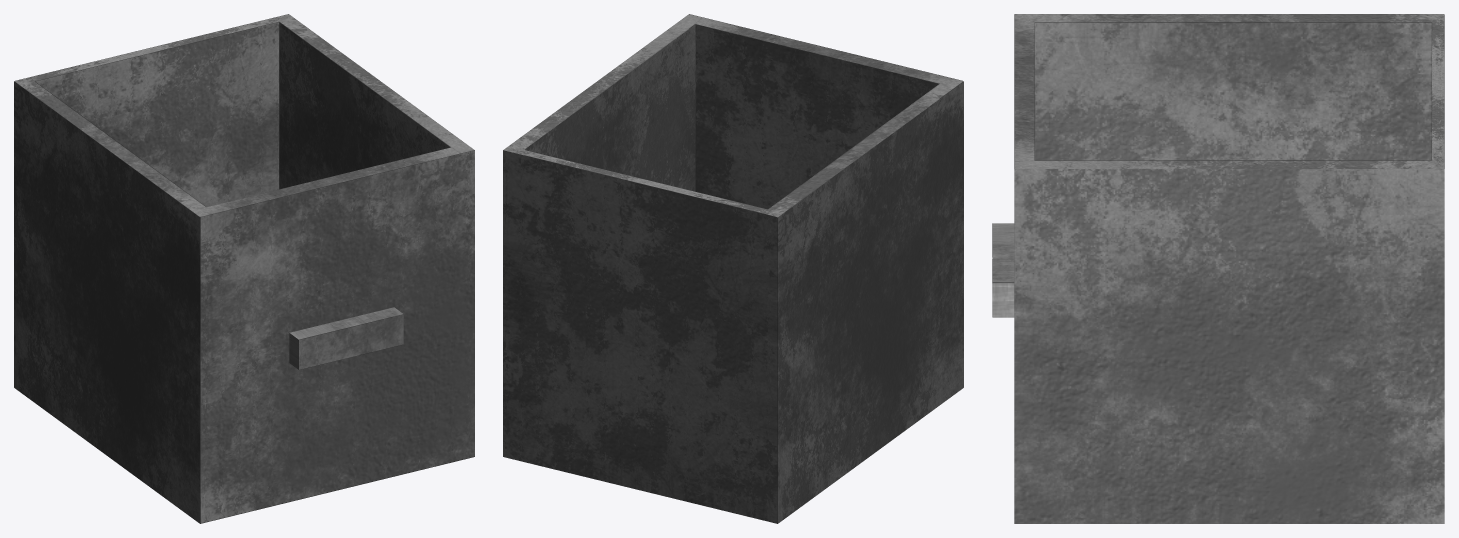
The model's file is Drawer_2.fbx.
3 renders of one model, left to right at view 1: azimuth 30°, elevation 25°; view 2: azimuth 150°, elevation 25°; view 3: azimuth 270°, elevation 25°, orthographic. The views are drawn at different scales.
Visible parts, largest first — view 1: Small_Drawer_2; view 2: Small_Drawer_2; view 3: Small_Drawer_2.
Boxes of the visible parts, bbox=[...] form: Small_Drawer_2: bbox=[14, 14, 474, 523]; Small_Drawer_2: bbox=[503, 14, 963, 523]; Small_Drawer_2: bbox=[992, 14, 1444, 523].
Size of the model in its own units: 675 by 720 by 832.
Materials: 1 (1 with a texture image).
